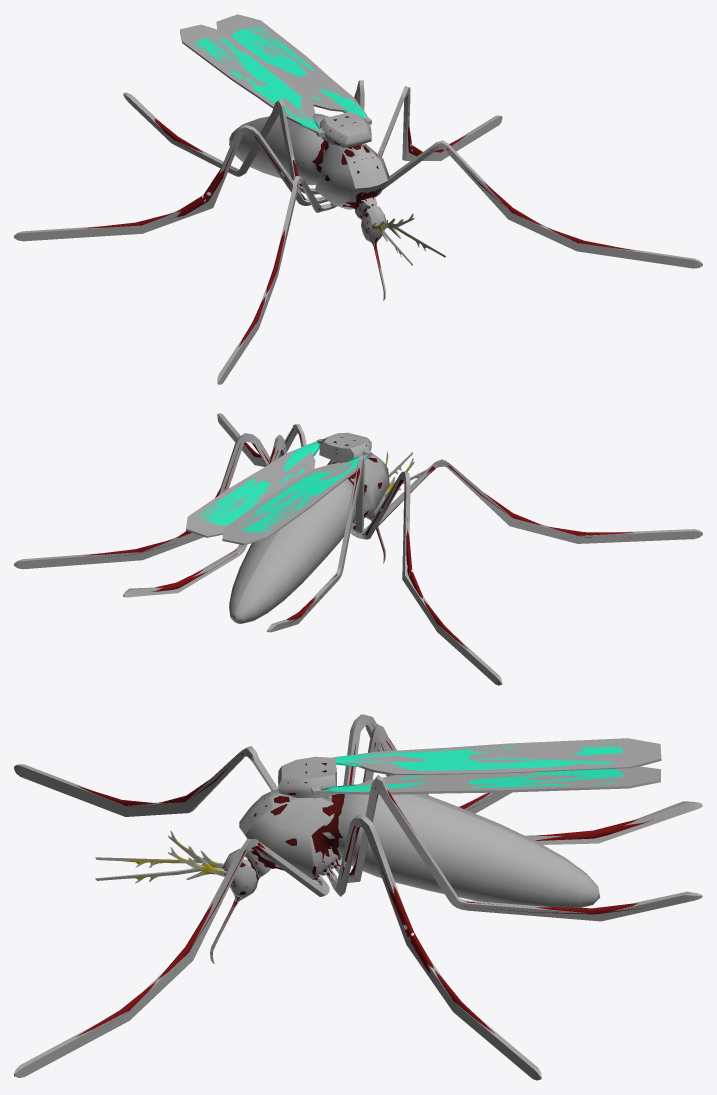
The model's file is mosquitoPlain.fbx.
The picture shows the model from 3 angles, top to bottom: view 1: azimuth 30°, elevation 25°; view 2: azimuth 150°, elevation 25°; view 3: azimuth 270°, elevation 25°; orthographic projection. The views are drawn at different scales.
Parts seen in each view (by area): view 1: polySurface1, polySurface2; view 2: polySurface1, polySurface2; view 3: polySurface1, polySurface2.
Boxes of the visible parts, x1,y1,x2,y2 form: polySurface1: (14,14,702,384); polySurface2: (85,27,633,347); polySurface1: (14,413,702,685); polySurface2: (84,428,633,648); polySurface1: (14,714,702,1080); polySurface2: (76,720,653,1036).
Size of the model in its own units: 26.78 by 8.64 by 25.16.
Materials: 2 (1 with a texture image).
